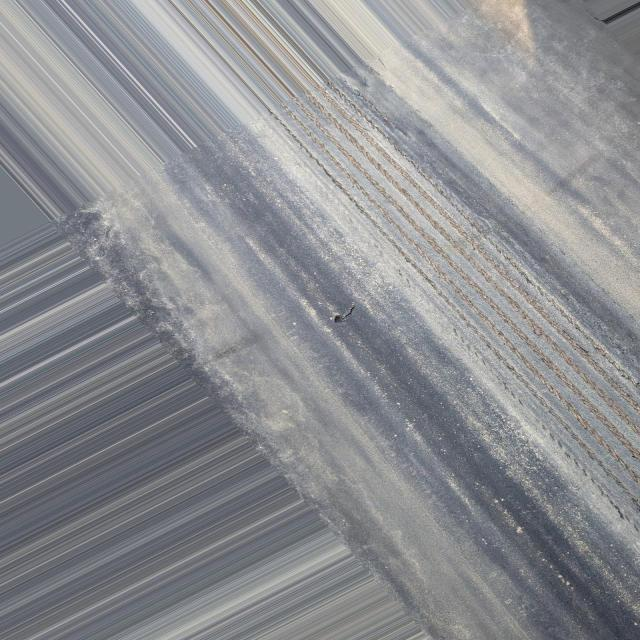Wear: (266, 71, 640, 541)
